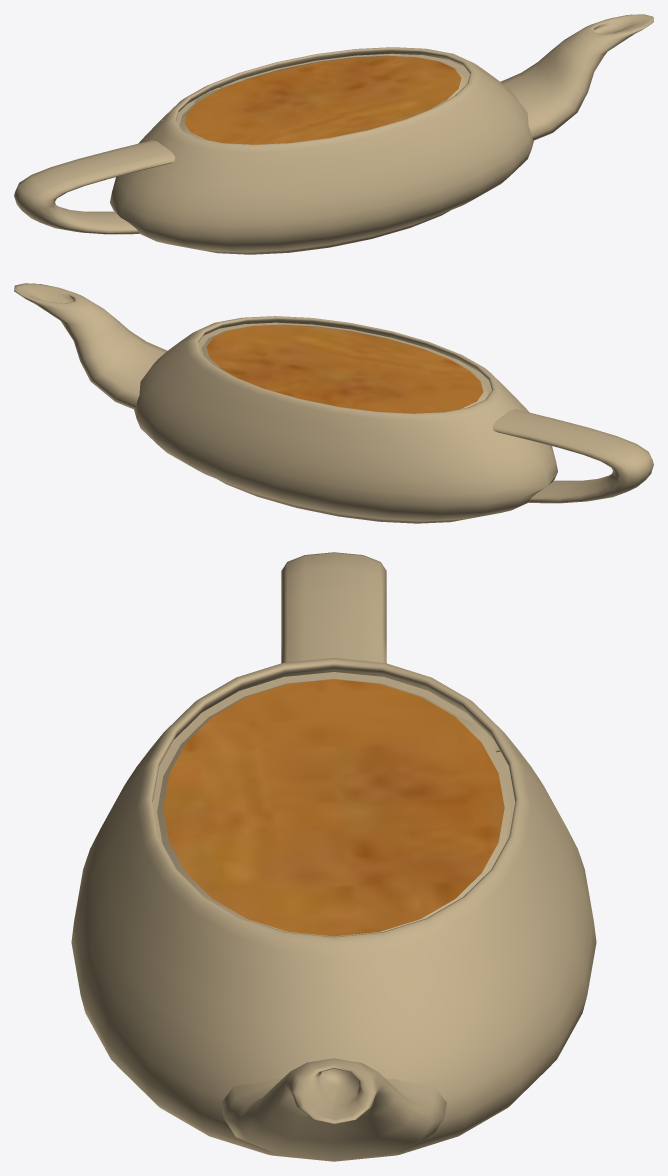
The model's file is gravy.obj.
3 renders of one model, top to bottom at view 1: azimuth 30°, elevation 25°; view 2: azimuth 150°, elevation 25°; view 3: azimuth 270°, elevation 25°, orthographic. The views are drawn at different scales.
Visible parts, largest first — view 1: teapot.005; view 2: teapot.005; view 3: teapot.005.
Boxes of the visible parts, x1,y1,x2,y2 form: teapot.005: [14, 14, 653, 254]; teapot.005: [14, 283, 653, 523]; teapot.005: [71, 552, 596, 1161].
Size of the model in its own units: 2 by 0.3365 by 0.7163.
Materials: 2 (2 with a texture image).
